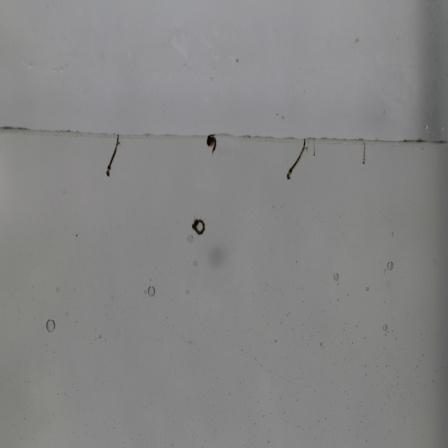Jentik-Nyamuk: (282, 134, 309, 182), (103, 132, 123, 179), (188, 214, 208, 239), (202, 133, 219, 156), (358, 139, 368, 167)
